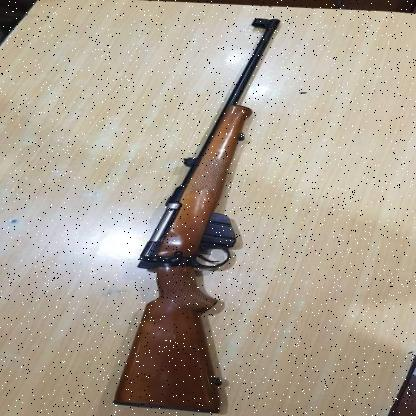rifle: (108, 17, 286, 416)
